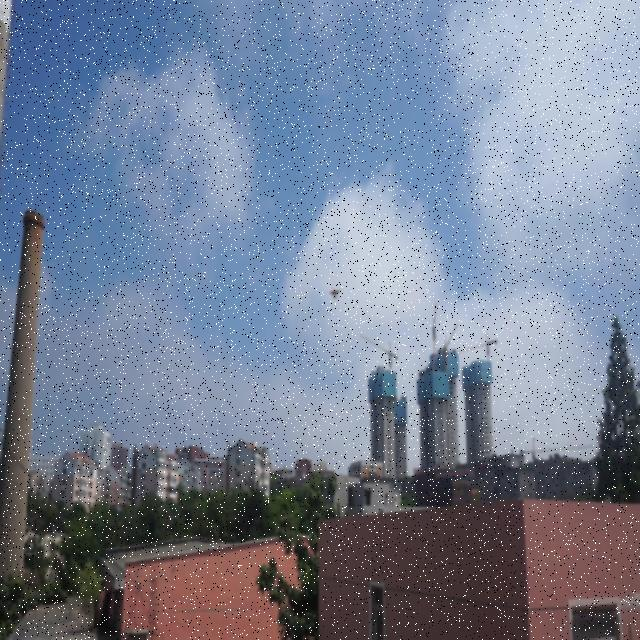UAV: (326, 286, 344, 300)
